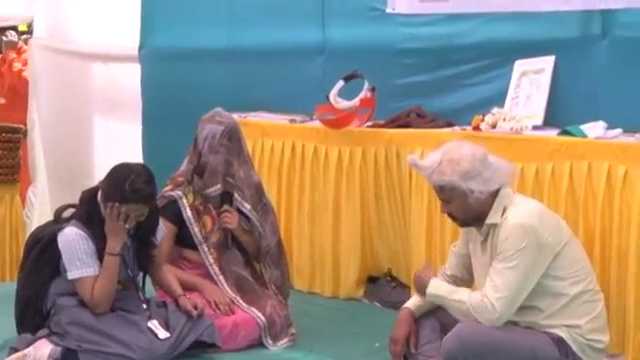helmet_off: (420, 142, 509, 229), (92, 163, 157, 234), (188, 111, 247, 188)
person: (375, 139, 614, 354), (6, 159, 187, 360), (144, 114, 288, 356), (0, 19, 29, 127)
